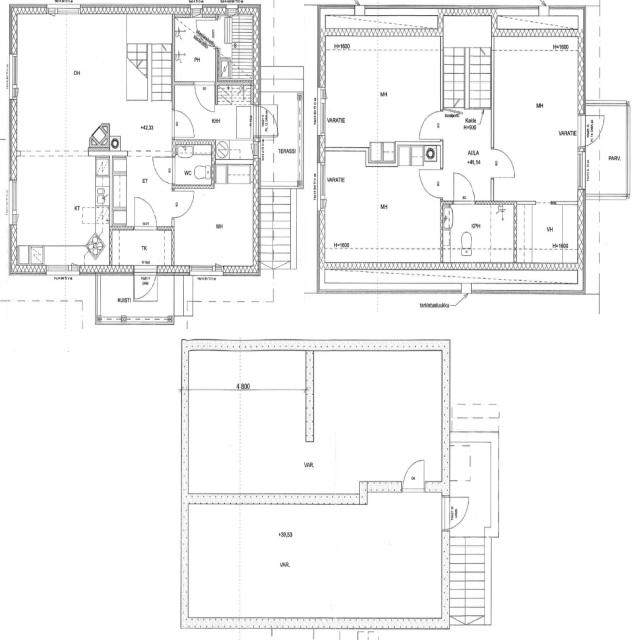door: (310, 346, 446, 488), (443, 486, 474, 531), (132, 192, 162, 231), (489, 145, 519, 180), (401, 454, 429, 490), (150, 152, 176, 187), (451, 169, 476, 205), (172, 184, 196, 220), (171, 106, 197, 139), (192, 78, 217, 112), (416, 106, 441, 139), (134, 267, 157, 301), (418, 167, 442, 199), (582, 114, 604, 147), (456, 278, 471, 306)
window: (5, 174, 20, 226), (3, 47, 17, 95), (314, 85, 327, 136), (190, 261, 224, 280), (177, 379, 190, 425), (575, 148, 588, 190), (53, 0, 82, 18), (222, 0, 240, 12), (190, 1, 203, 15)
zone: (227, 498, 445, 628), (491, 4, 584, 201), (50, 10, 171, 151), (9, 153, 111, 270), (318, 44, 429, 150), (10, 11, 76, 155), (172, 176, 262, 274), (240, 383, 312, 495), (318, 150, 378, 284), (184, 499, 242, 623), (374, 165, 442, 262), (186, 388, 241, 495), (378, 47, 440, 134), (514, 201, 583, 276), (443, 201, 516, 262), (441, 112, 491, 198), (583, 108, 631, 197), (257, 98, 305, 186), (259, 181, 300, 274), (211, 82, 258, 162), (173, 13, 219, 84), (223, 6, 261, 82), (172, 142, 215, 188)
